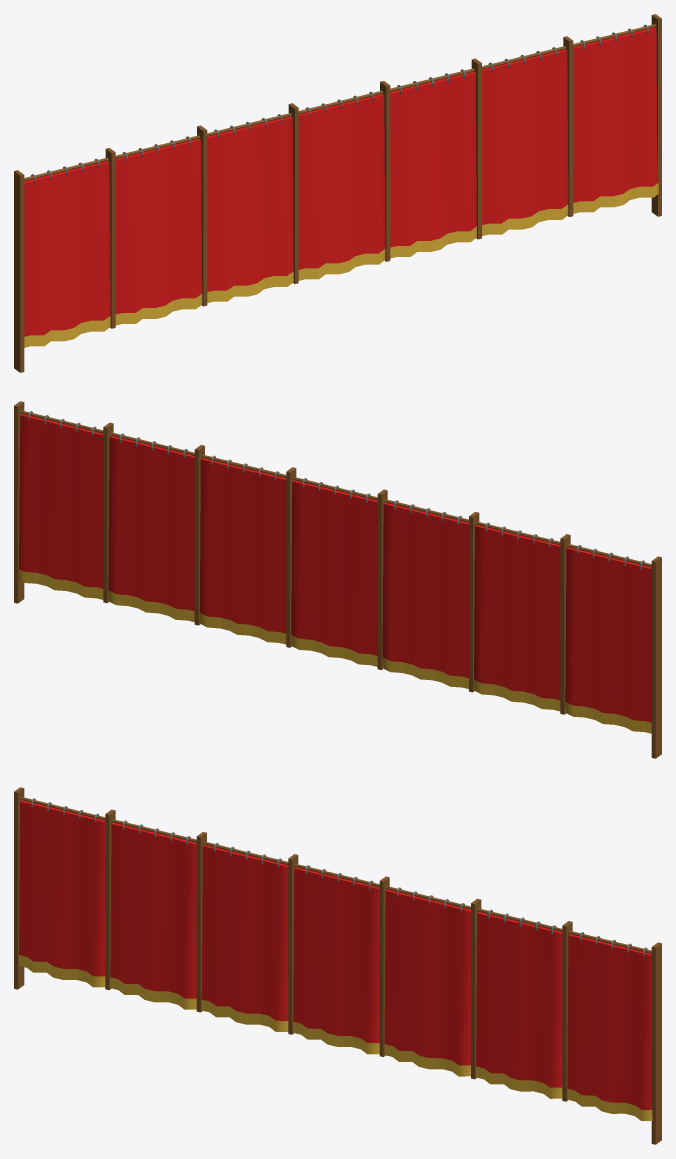
Rendered from stageCurtain.fbx.
The picture shows the model from 3 angles, top to bottom: view 1: azimuth 30°, elevation 25°; view 2: azimuth 150°, elevation 25°; view 3: azimuth 330°, elevation 25°; orthographic projection.
Parts seen in each view (by area): view 1: Stage Curtain; view 2: Stage Curtain; view 3: Stage Curtain.
Part boxes in pixels (left/top/right/bottom): Stage Curtain: left=14, top=14, right=661, bottom=372; Stage Curtain: left=14, top=401, right=661, bottom=758; Stage Curtain: left=14, top=787, right=661, bottom=1144.
Bounding box in the file's own units: 1434 × 38.16 × 421.
